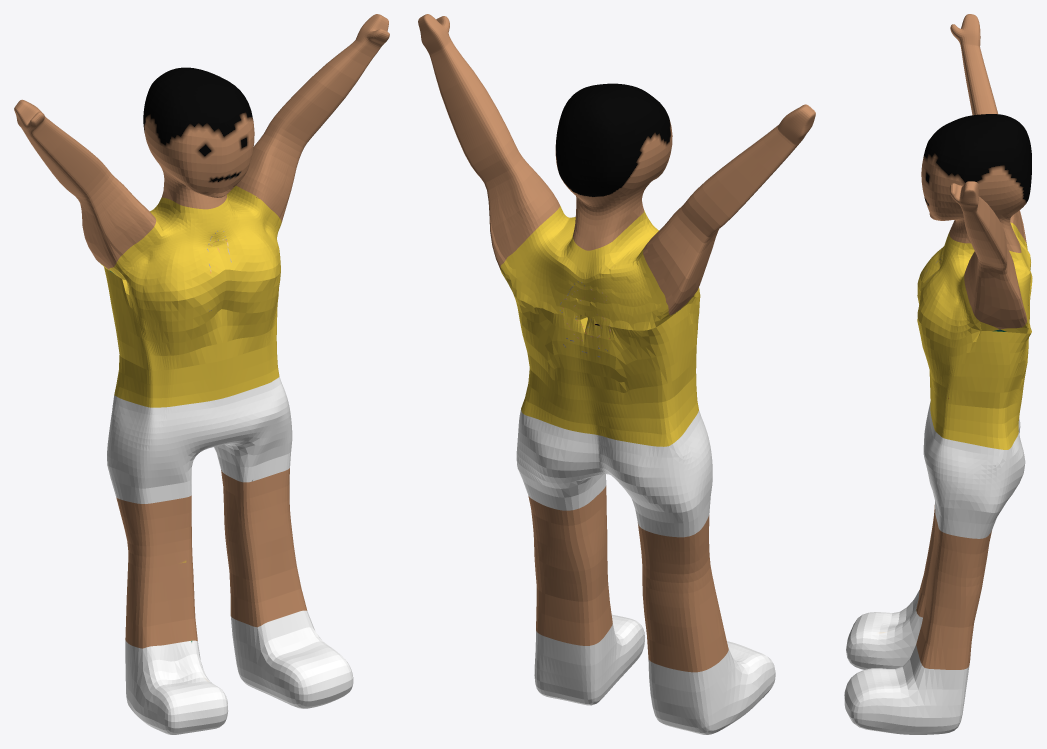
The model's file is Espectadora.obj.
3 renders of one model, left to right at view 1: azimuth 30°, elevation 25°; view 2: azimuth 150°, elevation 25°; view 3: azimuth 270°, elevation 25°, orthographic. The views are drawn at different scales.
Visible parts, largest first — view 1: Espectadora; view 2: Espectadora; view 3: Espectadora.
Boxes of the visible parts, x1,y1,x2,y2 form: Espectadora: (14,14,389,734); Espectadora: (418,14,815,734); Espectadora: (844,14,1032,734).
Bounding box in the file's own units: 1.13 × 1.82 × 0.5157.
Materials: 1 (1 with a texture image).
